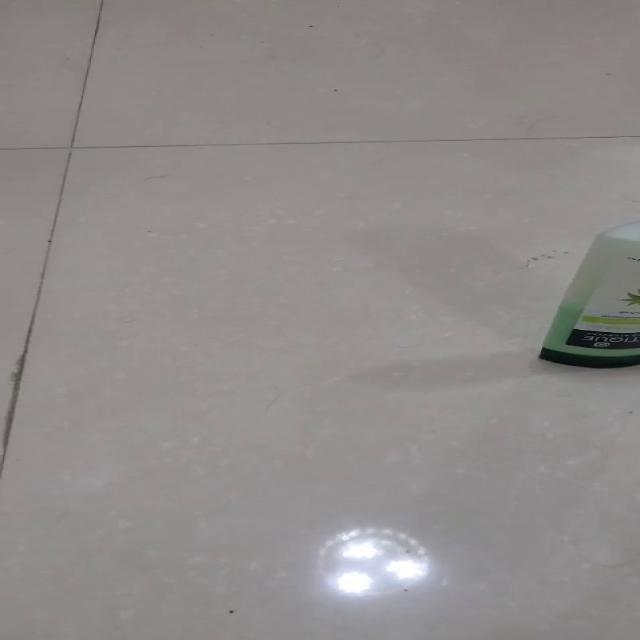plastic: (537, 219, 639, 368)
